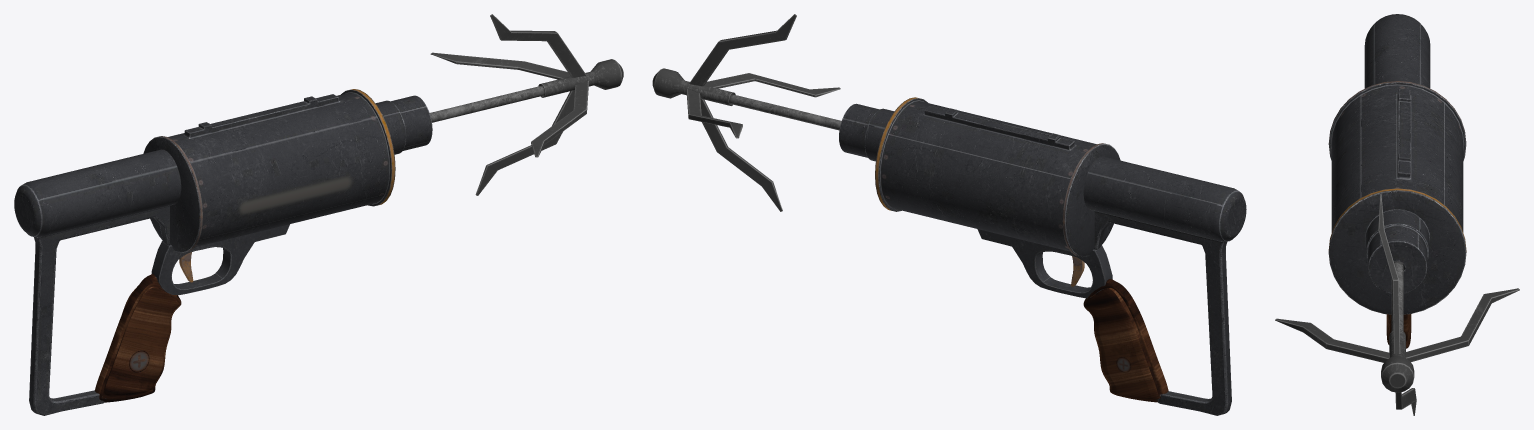
3 views of the same model, side by side, from view 1: azimuth 30°, elevation 25°; view 2: azimuth 150°, elevation 25°; view 3: azimuth 270°, elevation 25° (orthographic). The views are drawn at different scales.
Parts seen in each view (by area): view 1: Stock, Bolt; view 2: Stock, Bolt; view 3: Stock, Bolt.
Part boxes in pixels (left/top/right/bottom): Stock: left=14, top=89, right=432, bottom=415; Bolt: left=429, top=14, right=623, bottom=195; Stock: left=839, top=97, right=1246, bottom=415; Bolt: left=652, top=14, right=841, bottom=211; Stock: left=1328, top=14, right=1466, bottom=348; Bolt: left=1275, top=194, right=1519, bottom=415.
Size of the model in its own units: 2 by 0.9707 by 0.617.
2 materials, 2 textured.
